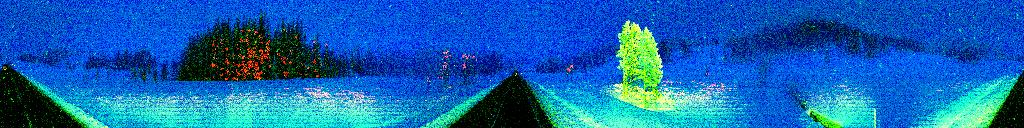pole: (249, 107, 256, 128), (873, 106, 877, 128)
